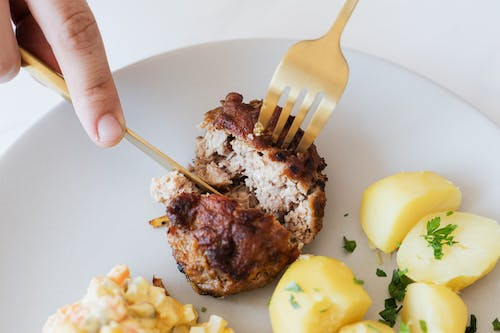knife: (18, 45, 224, 196)
